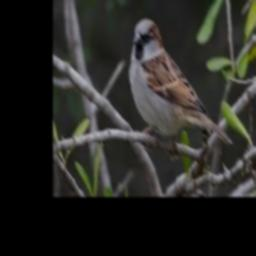Sparrow: (128, 19, 232, 146)
